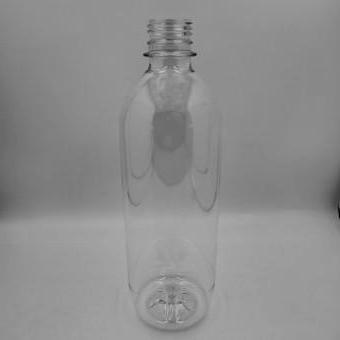bottle: (122, 12, 220, 328)
